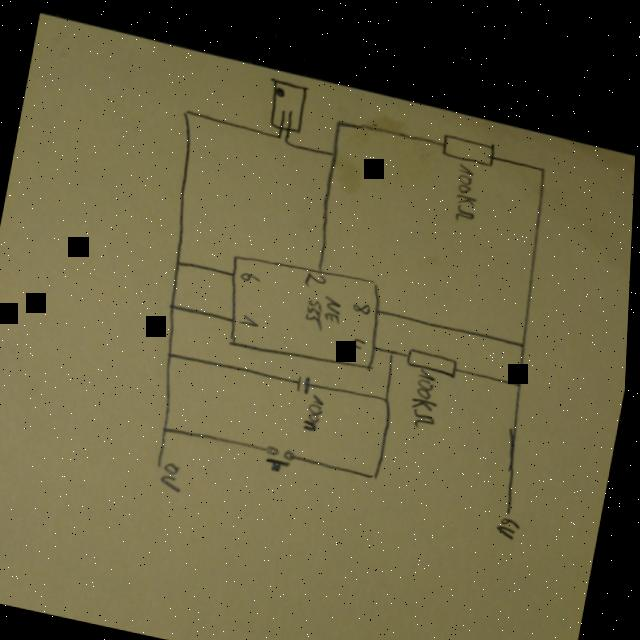capacitor: (299, 367, 317, 390)
junction: (181, 102, 197, 117), (373, 464, 387, 476), (522, 331, 532, 341), (170, 298, 181, 307), (336, 111, 345, 121), (331, 145, 343, 152), (517, 372, 529, 379), (166, 421, 175, 430), (170, 346, 179, 355), (177, 254, 186, 263), (392, 341, 401, 349), (540, 157, 550, 164), (386, 389, 395, 396), (285, 132, 292, 141), (278, 129, 285, 134)
resistor: (441, 124, 500, 159), (409, 340, 465, 370)
switch: (263, 71, 312, 129), (266, 437, 302, 469)
terminal: (159, 458, 170, 467), (510, 499, 519, 509)
text: (412, 359, 449, 424), (450, 154, 487, 217), (306, 284, 348, 330), (306, 386, 330, 427), (163, 456, 190, 489), (500, 506, 527, 532), (307, 266, 331, 284), (348, 328, 371, 345), (240, 308, 265, 323), (355, 294, 375, 310), (242, 266, 266, 279)
